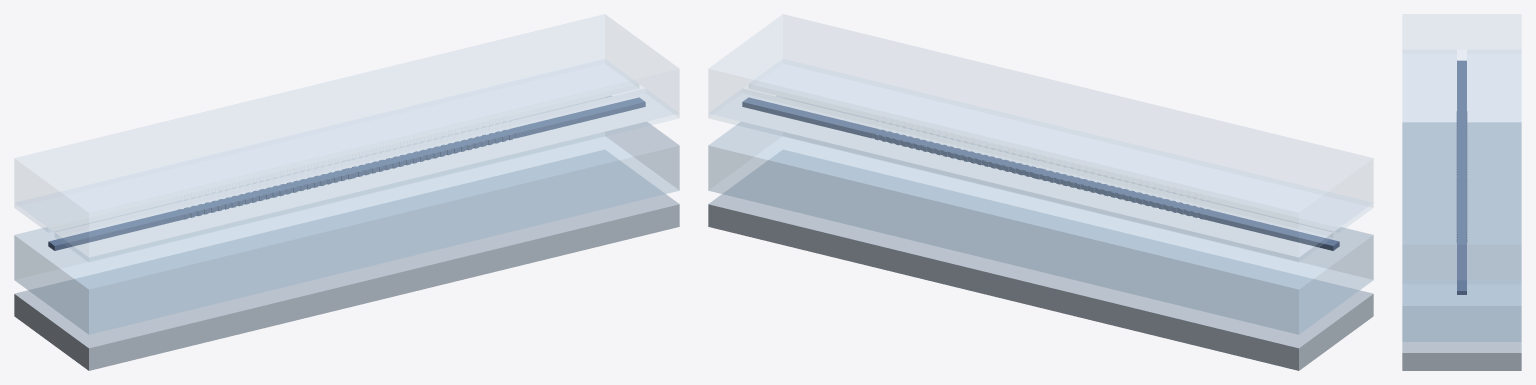
File: stack-bragg-x.glb
3 views of the same model, side by side, from view 1: azimuth 30°, elevation 25°; view 2: azimuth 150°, elevation 25°; view 3: azimuth 270°, elevation 25° (orthographic). The views are drawn at different scales.
Parts seen in each view (by area): view 1: cladd, sisub, box, siwg; view 2: cladd, sisub, box, siwg; view 3: cladd, sisub, box, siwg.
Boxes of the visible parts, x1=… form: cladd: x1=14, y1=14, x2=679, y2=261; sisub: x1=14, y1=149, x2=679, y2=370; box: x1=14, y1=96, x2=679, y2=334; siwg: x1=48, y1=97, x2=645, y2=250; cladd: x1=708, y1=14, x2=1373, y2=261; sisub: x1=708, y1=149, x2=1373, y2=370; box: x1=708, y1=96, x2=1373, y2=334; siwg: x1=742, y1=97, x2=1339, y2=250; cladd: x1=1402, y1=14, x2=1521, y2=283; sisub: x1=1402, y1=122, x2=1521, y2=370; box: x1=1402, y1=280, x2=1521, y2=341; siwg: x1=1456, y1=60, x2=1467, y2=294.
Size of the model in its own units: 27.37 by 7 by 6.
